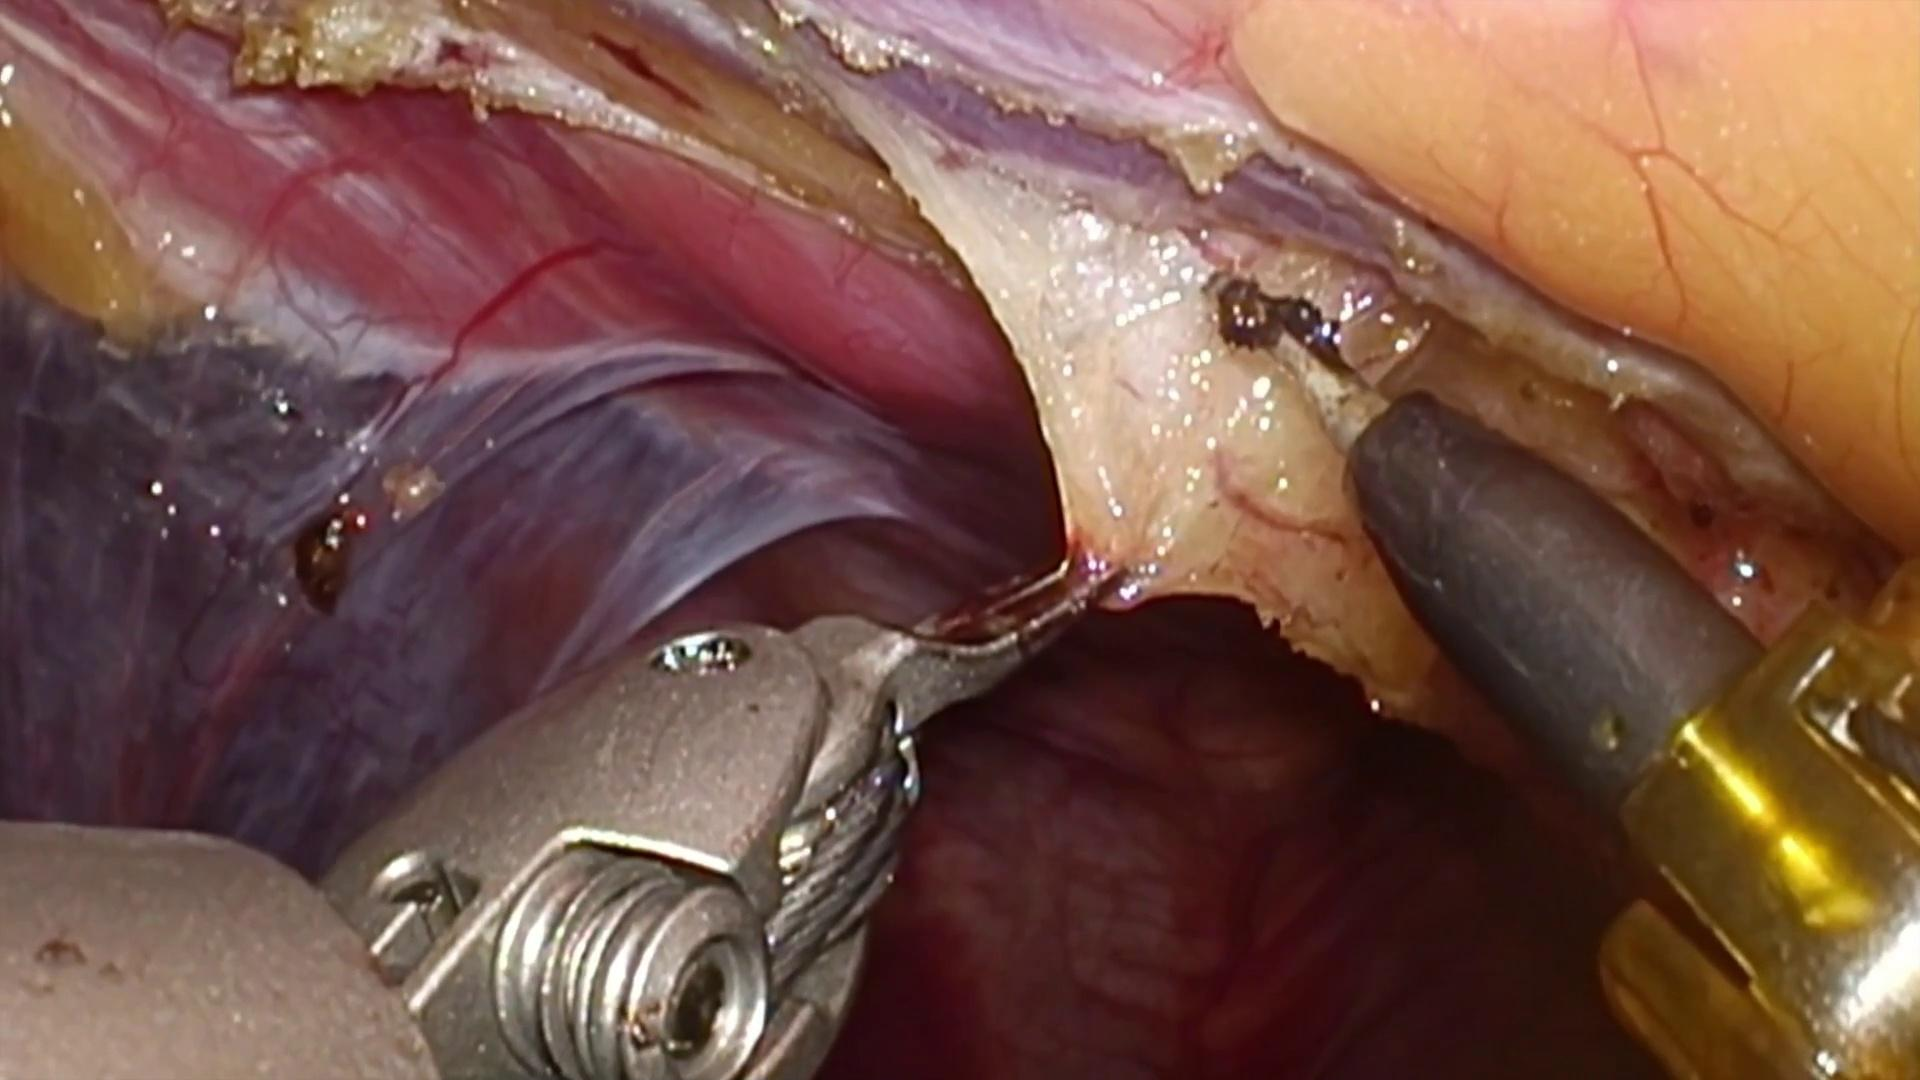Cautery_Spatula: (1234, 281, 1767, 831)
Debakey: (814, 521, 1146, 757)
